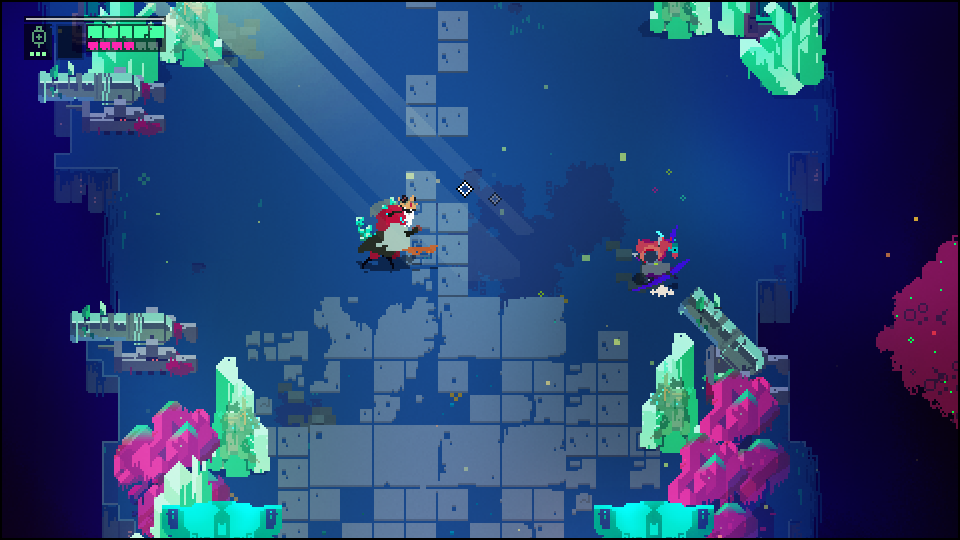hanged_man: (354, 192, 441, 260)
player: (627, 227, 685, 284)
